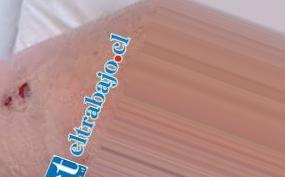Spider: (0, 79, 40, 120)
